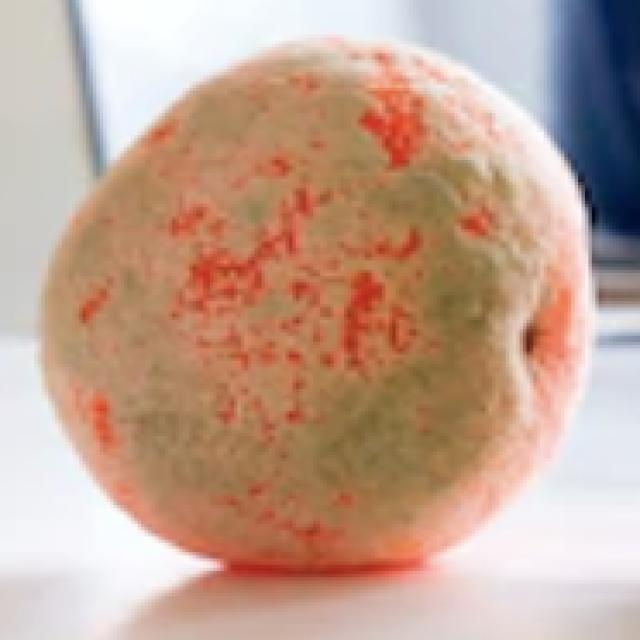sangat-busuk: (42, 38, 591, 569)
